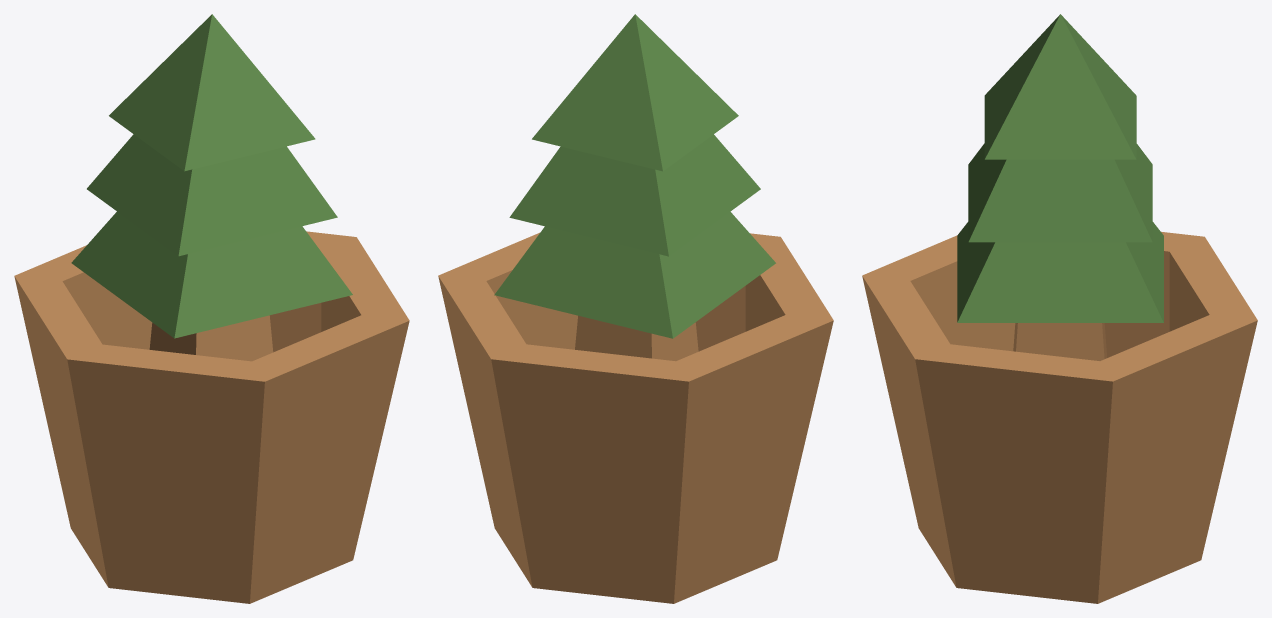
The model's file is kitPlantSmall1.glb.
3 views of the same model, side by side, from view 1: azimuth 30°, elevation 25°; view 2: azimuth 150°, elevation 25°; view 3: azimuth 270°, elevation 25° (orthographic).
Visible parts, largest first — view 1: kitPlantSmall1_wood, kitPlantSmall1_leaf; view 2: kitPlantSmall1_wood, kitPlantSmall1_leaf; view 3: kitPlantSmall1_wood, kitPlantSmall1_leaf.
Part boxes in pixels (bbox=[...]): kitPlantSmall1_wood: bbox=[14, 231, 409, 603]; kitPlantSmall1_leaf: bbox=[71, 14, 352, 338]; kitPlantSmall1_wood: bbox=[438, 232, 833, 603]; kitPlantSmall1_leaf: bbox=[494, 14, 775, 338]; kitPlantSmall1_wood: bbox=[862, 231, 1257, 603]; kitPlantSmall1_leaf: bbox=[957, 14, 1163, 322].
Bounding box in the file's own units: 0.1893 × 0.28 × 0.1893.
